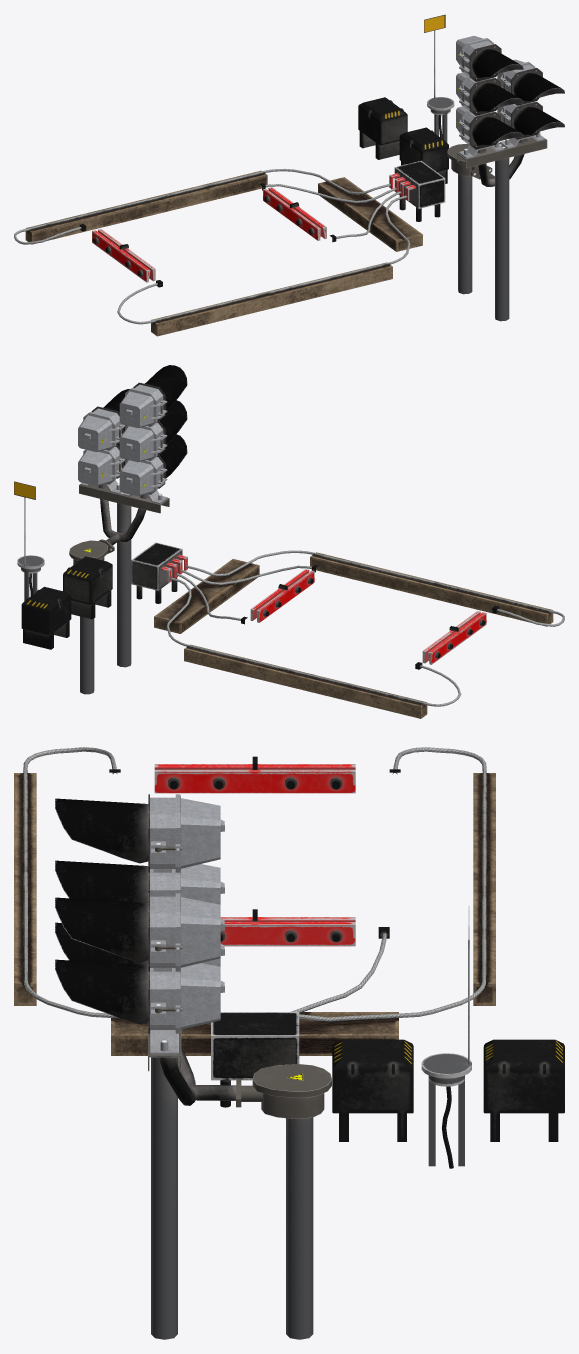
Rendered from RM_sig_P_KM1_YGY+WR_3+2_rout.gltf.
3 renders of one model, top to bottom at view 1: azimuth 30°, elevation 25°; view 2: azimuth 150°, elevation 25°; view 3: azimuth 270°, elevation 25°, orthographic. The views are drawn at different scales.
Visible parts, largest first — view 1: Изостык, Светофор 3+2; view 2: Изостык, Светофор 3+2; view 3: Светофор 3+2, Изостык.
Boxes of the visible parts, x1,y1,x2,y2 form: Изостык: [14, 14, 454, 336]; Светофор 3+2: [447, 36, 564, 321]; Изостык: [14, 481, 564, 718]; Светофор 3+2: [69, 365, 187, 694]; Светофор 3+2: [55, 794, 331, 1339]; Изостык: [14, 747, 564, 1168].
Bounding box in the file's own units: 4.18 × 2.5 × 2.43.
2 materials, 2 textured.
